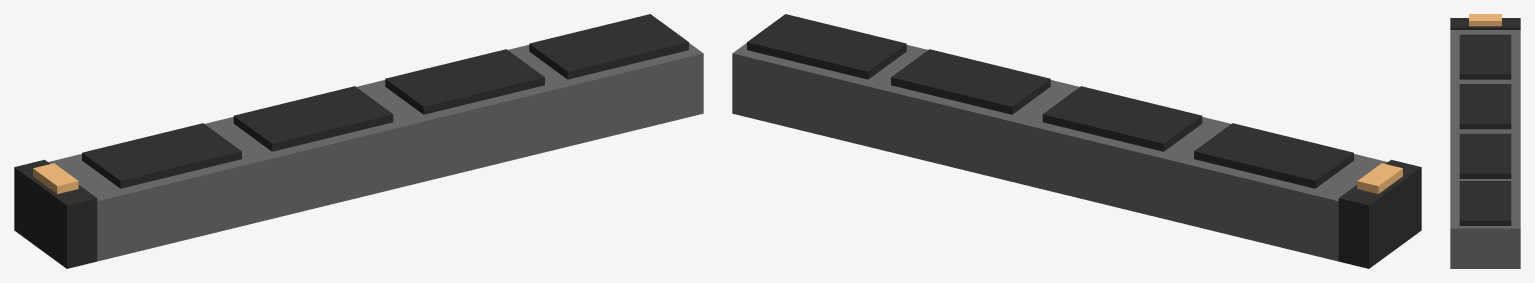
File: power-strip-floor.glb
3 views of the same model, side by side, from view 1: azimuth 30°, elevation 25°; view 2: azimuth 150°, elevation 25°; view 3: azimuth 270°, elevation 25° (orthographic). The views are drawn at different scales.
Visible parts, largest first — view 1: metal, plastic-dark, emissive-warm; view 2: metal, plastic-dark, emissive-warm; view 3: plastic-dark, metal, emissive-warm.
Boxes of the visible parts, x1=… form: metal: x1=48, y1=43, x2=703, y2=261; plastic-dark: x1=14, y1=14, x2=688, y2=268; emissive-warm: x1=33, y1=163, x2=78, y2=193; metal: x1=732, y1=43, x2=1387, y2=261; plastic-dark: x1=747, y1=14, x2=1421, y2=268; emissive-warm: x1=1357, y1=163, x2=1402, y2=193; plastic-dark: x1=1450, y1=18, x2=1520, y2=225; metal: x1=1450, y1=30, x2=1520, y2=268; emissive-warm: x1=1469, y1=14, x2=1501, y2=26.
Size of the model in its own units: 0.42 by 0.045 by 0.06.
